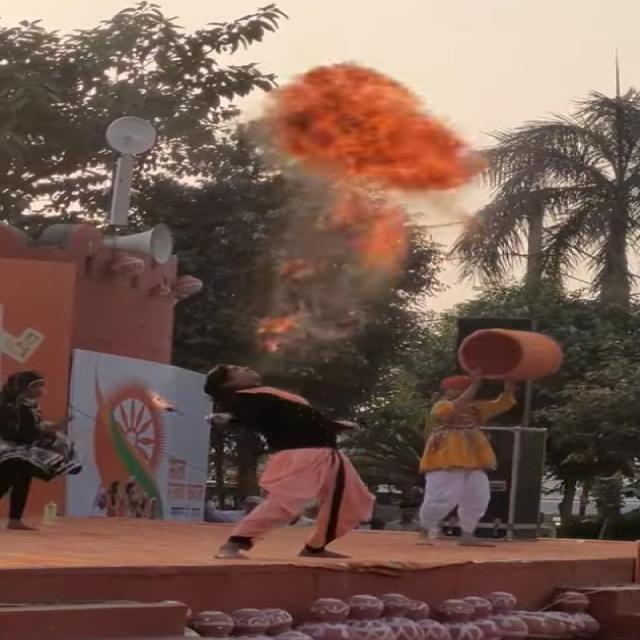fire: (262, 61, 487, 192), (313, 191, 412, 231), (354, 232, 409, 275), (256, 313, 296, 354)
